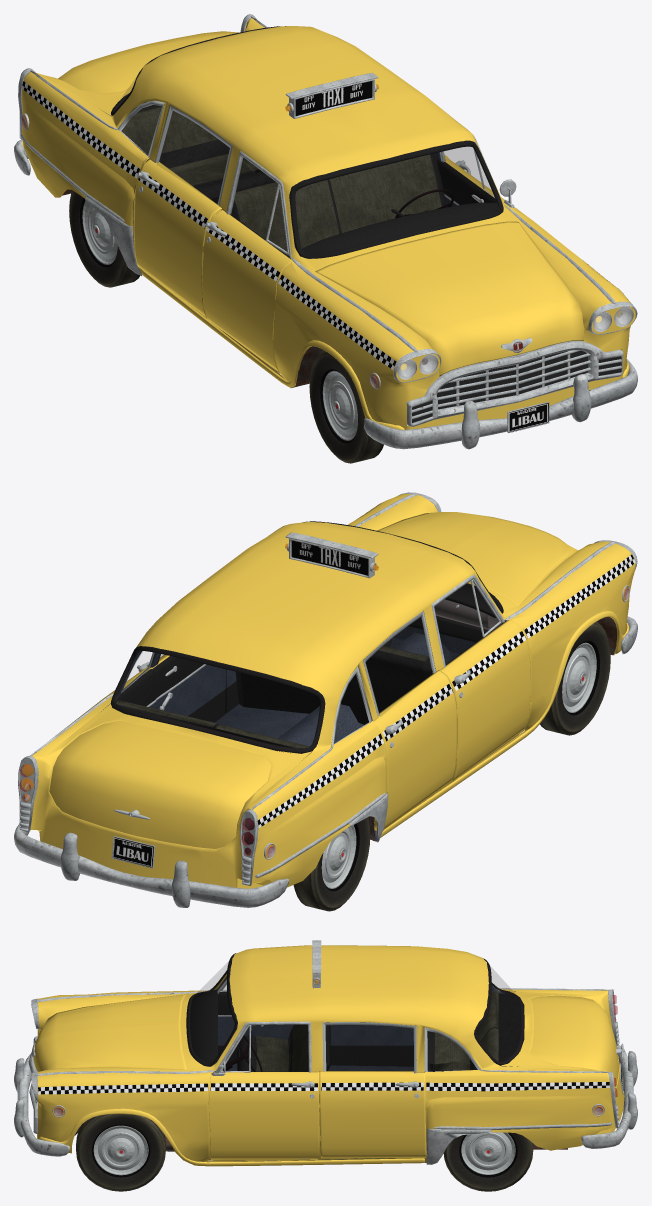
File: taxi.glb
The picture shows the model from 3 angles, top to bottom: view 1: azimuth 30°, elevation 25°; view 2: azimuth 150°, elevation 25°; view 3: azimuth 270°, elevation 25°; orthographic projection. The views are drawn at different scales.
Parts seen in each view (by area): view 1: Group#4.001_25, Group#4.002_40, seat.008_68, G-__555762.002_42, G-__555762.003_86, G-__555708.001_10, G-__555735_12, G-__556275_32, G-__556239_30, Group#4.012_58, G-__555933_19, Cylinder.004_2 (+14 smaller); view 2: Group#4.001_25, G-__556275_32, G-__555762.002_42, G-__555762.003_86, Group#4.002_40, seat.008_68, G-__555744.001_13, G-__555762.001_14, G-__556329_33, Cylinder.004_2, G-__555960_21, Group#4.003_82 (+17 smaller); view 3: Group#4.001_25, G-__555762.001_14, G-__556095_26, Group#4.002_40, G-__556275_32, seat.008_68, Cylinder.007_5, G-__555762.002_42, Group#4.003_82, Cylinder.006_4, Cylinder.010_8, Group#4.004_41 (+15 smaller).
Boxes of the visible parts, x1,y1,x2,y2 form: Group#4.001_25: (21, 18, 633, 429); Group#4.002_40: (315, 221, 584, 375); seat.008_68: (121, 106, 446, 256); G-__555762.002_42: (133, 105, 232, 317); G-__555762.003_86: (202, 151, 291, 371); G-__555708.001_10: (363, 359, 637, 449); G-__555735_12: (406, 341, 623, 426); G-__556275_32: (58, 31, 238, 93); G-__556239_30: (412, 350, 621, 422); Group#4.012_58: (299, 202, 499, 256); G-__555933_19: (289, 140, 503, 258); Cylinder.004_2: (309, 350, 383, 463); Group#4.001_25: (21, 494, 635, 888); G-__556275_32: (49, 721, 271, 848); G-__555762.002_42: (363, 611, 457, 830); G-__555762.003_86: (431, 575, 530, 781); Group#4.002_40: (377, 512, 578, 606); seat.008_68: (115, 646, 432, 752); G-__555744.001_13: (14, 823, 289, 907); G-__555762.001_14: (137, 654, 226, 722); G-__556329_33: (215, 632, 528, 841); Cylinder.004_2: (540, 622, 610, 735); G-__555960_21: (111, 646, 325, 752); Group#4.003_82: (22, 554, 635, 827); Group#4.001_25: (37, 945, 624, 1165); G-__555762.001_14: (319, 1022, 426, 1158); G-__556095_26: (208, 1021, 318, 1159); Group#4.002_40: (31, 994, 186, 1071); G-__556275_32: (530, 995, 624, 1087); seat.008_68: (237, 991, 498, 1071); Cylinder.007_5: (76, 1114, 165, 1191); G-__555762.002_42: (330, 1025, 413, 1066); Group#4.003_82: (38, 1082, 609, 1094); Cylinder.006_4: (443, 1132, 533, 1191); Cylinder.010_8: (93, 1125, 148, 1175); Group#4.004_41: (38, 1108, 424, 1166).
Bounding box in the file's own units: 2.19 × 1.98 × 5.82.
28 materials, 13 textured.
